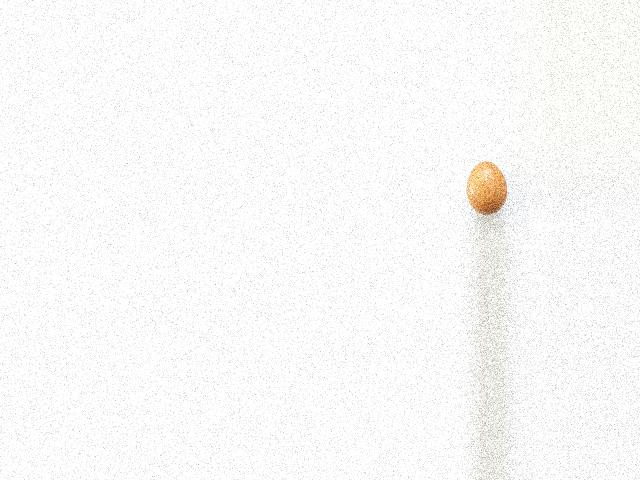egg: (467, 160, 508, 215)
